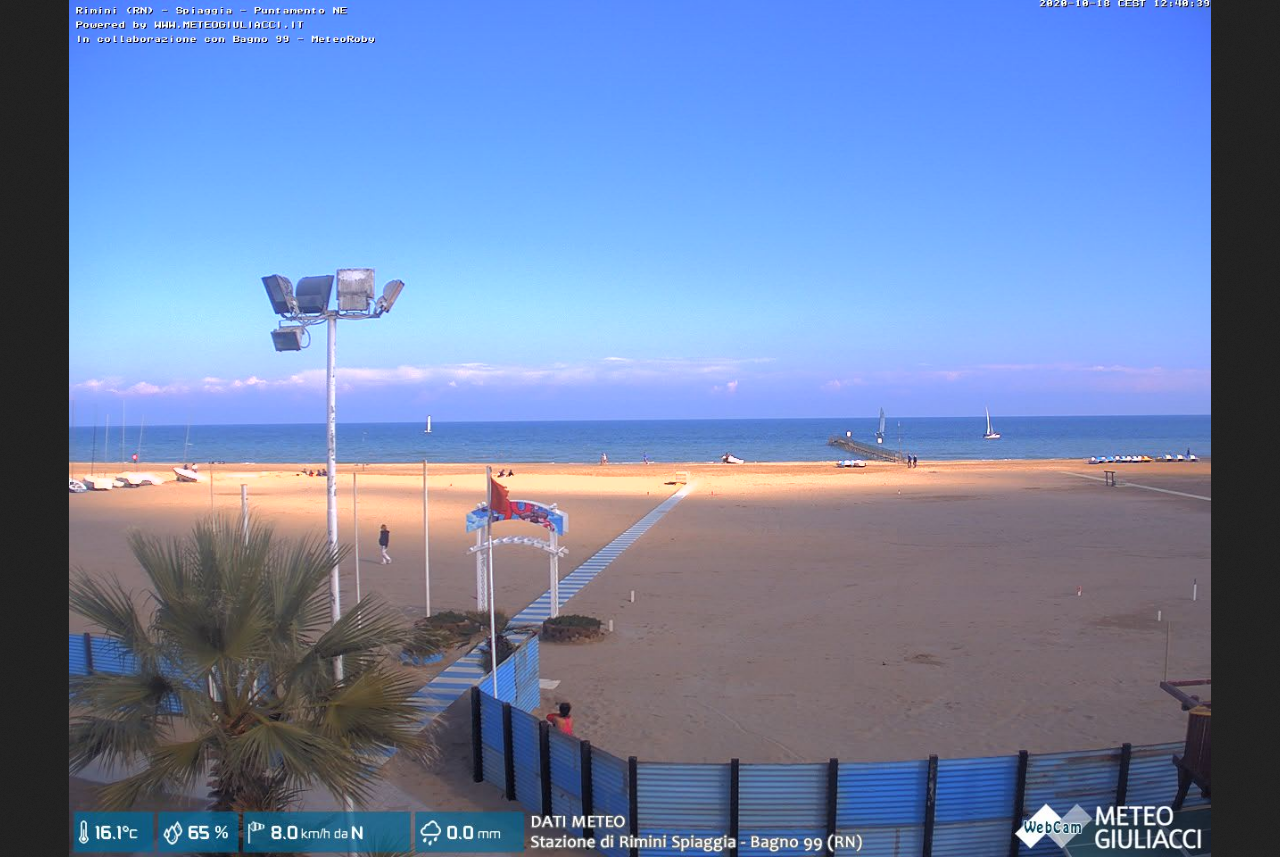maybe: (482, 473, 520, 525)
